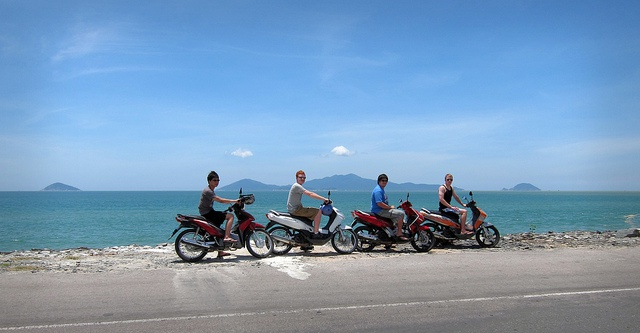non-vehicle: (167, 187, 273, 262), (263, 199, 356, 256), (350, 192, 435, 252), (419, 191, 500, 247)
